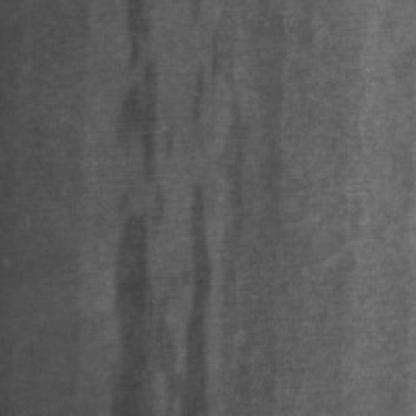inclusion: (108, 0, 204, 412), (112, 0, 172, 212)
